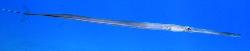Fistularia commersonii: (0, 9, 250, 48)
